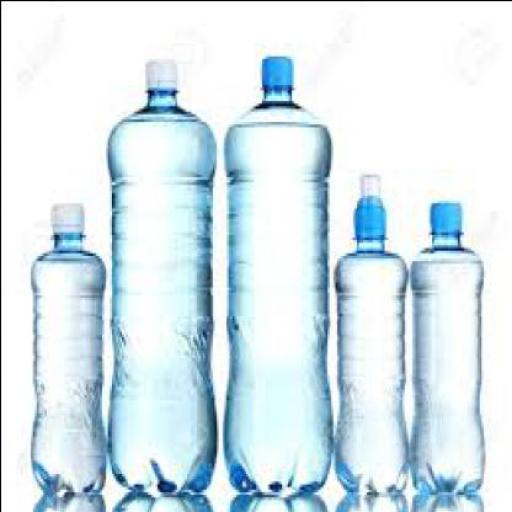plastic: (102, 53, 214, 493), (222, 53, 332, 491), (330, 171, 405, 491), (408, 199, 482, 491), (30, 202, 104, 493), (350, 170, 382, 240), (45, 200, 85, 236), (425, 197, 459, 234), (142, 52, 174, 87), (261, 52, 290, 87)
